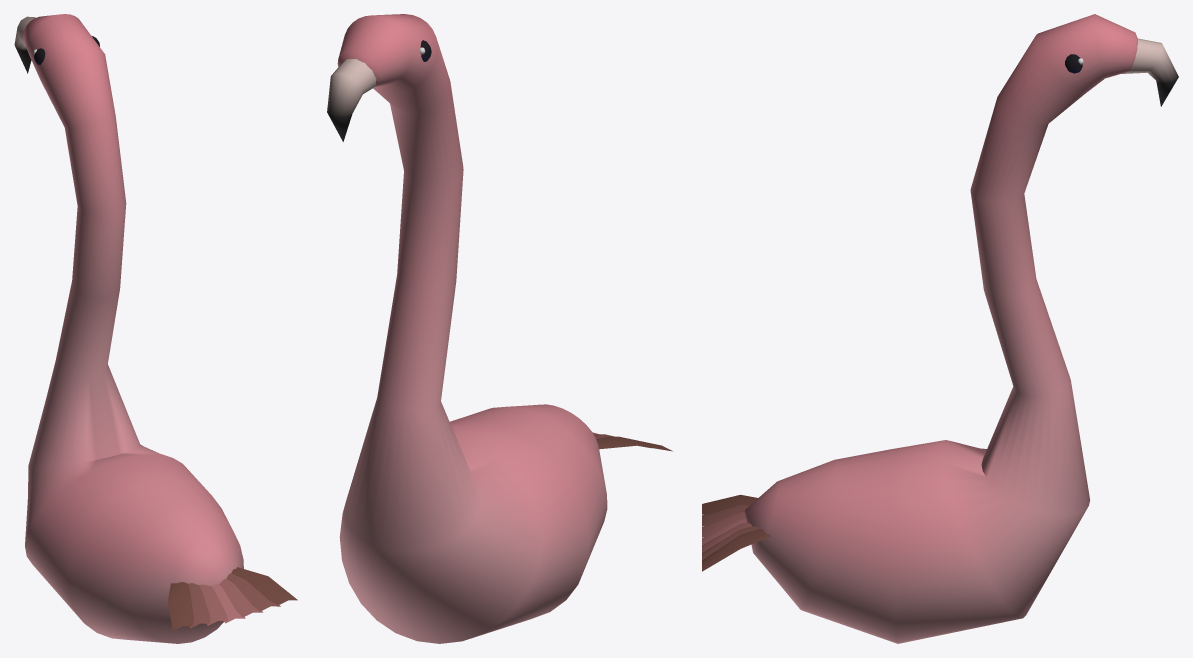
Rendered from Flamingo_Body.fbx.
The picture shows the model from 3 angles, left to right: view 1: azimuth 30°, elevation 25°; view 2: azimuth 150°, elevation 25°; view 3: azimuth 270°, elevation 25°; orthographic projection. The views are drawn at different scales.
Parts seen in each view (by area): view 1: Flamingo_Body; view 2: Flamingo_Body; view 3: Flamingo_Body.
Part boxes in pixels (<box>): Flamingo_Body: <box>14,14,297,643</box>; Flamingo_Body: <box>327,14,672,643</box>; Flamingo_Body: <box>702,14,1178,643</box>.
Bounding box in the file's own units: 6.4 × 21.18 × 14.86.
